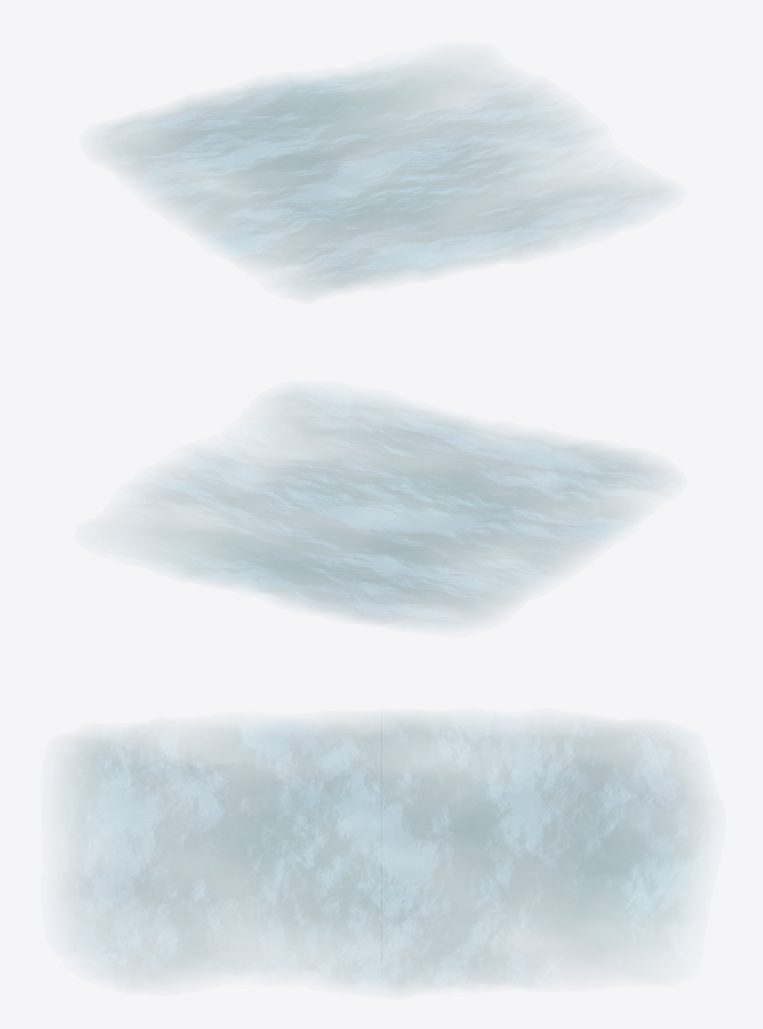
File: water_animation.glb
3 renders of one model, top to bottom at view 1: azimuth 30°, elevation 25°; view 2: azimuth 150°, elevation 25°; view 3: azimuth 270°, elevation 25°, orthographic. The views are drawn at different scales.
Parts seen in each view (by area): view 1: Water Export; view 2: Water Export; view 3: Water Export.
Part boxes in pixels (x1,y1,x2,y2): Water Export: (108,67,657,289); Water Export: (136,394,659,623); Water Export: (69,719,698,986).
Size of the model in its own units: 100 by 3.16 by 100.
1 material, 1 textured.
